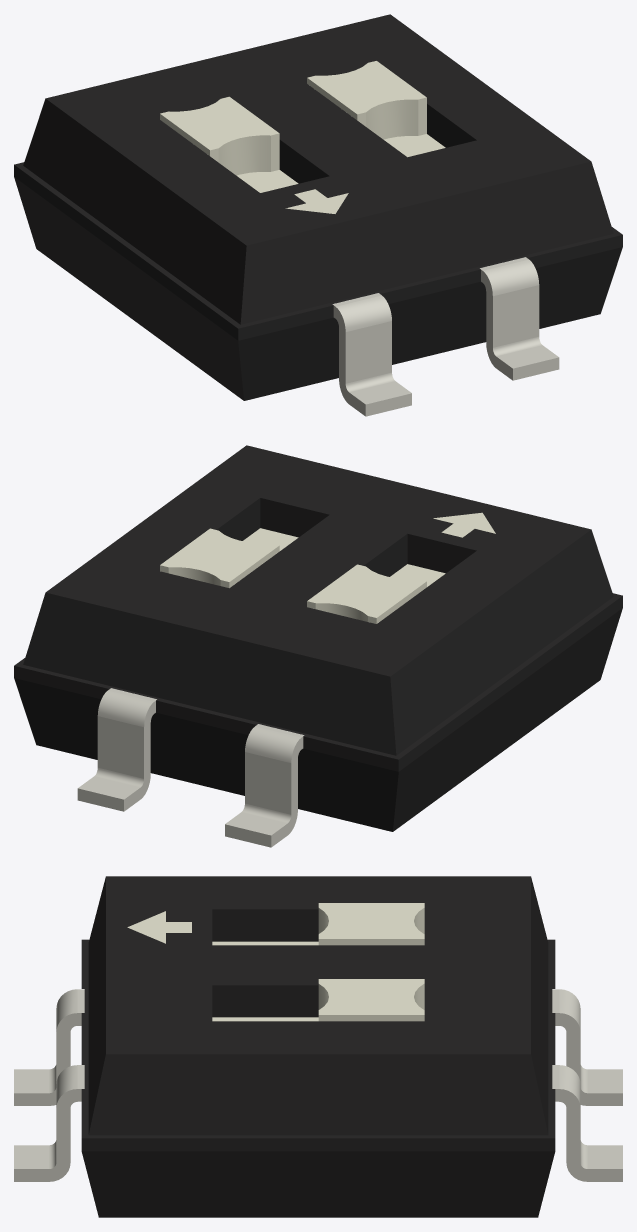
Rendered from kc-sw_dip_spstx02_slide_6.7x6.64mm_w8.61mm_p2.54mm_lowprofile.glb.
3 views of the same model, one above another, from view 1: azimuth 30°, elevation 25°; view 2: azimuth 150°, elevation 25°; view 3: azimuth 270°, elevation 25° (orthographic). The views are drawn at different scales.
Parts seen in each view (by area): view 1: 0_0_0_0, 0.75_0.75_0.6666666666666666_0, 0.6666666666666666_0.6666666666666666_0.5833333333333334_0.8; view 2: 0_0_0_0, 0.6666666666666666_0.6666666666666666_0.5833333333333334_0.8, 0.75_0.75_0.6666666666666666_0; view 3: 0_0_0_0, 0.6666666666666666_0.6666666666666666_0.5833333333333334_0.8, 0.75_0.75_0.6666666666666666_0.
Boxes of the visible parts, x1,y1,x2,y2 form: 0_0_0_0: (14, 14, 622, 400); 0.75_0.75_0.6666666666666666_0: (160, 61, 445, 213); 0.6666666666666666_0.6666666666666666_0.5833333333333334_0.8: (333, 257, 559, 416); 0_0_0_0: (14, 445, 622, 831); 0.6666666666666666_0.6666666666666666_0.5833333333333334_0.8: (77, 688, 303, 847); 0.75_0.75_0.6666666666666666_0: (160, 512, 495, 623); 0_0_0_0: (81, 876, 555, 1217); 0.6666666666666666_0.6666666666666666_0.5833333333333334_0.8: (14, 989, 622, 1181); 0.75_0.75_0.6666666666666666_0: (127, 903, 424, 1021).
Size of the model in its own units: 0.664 by 0.27 by 0.861.
